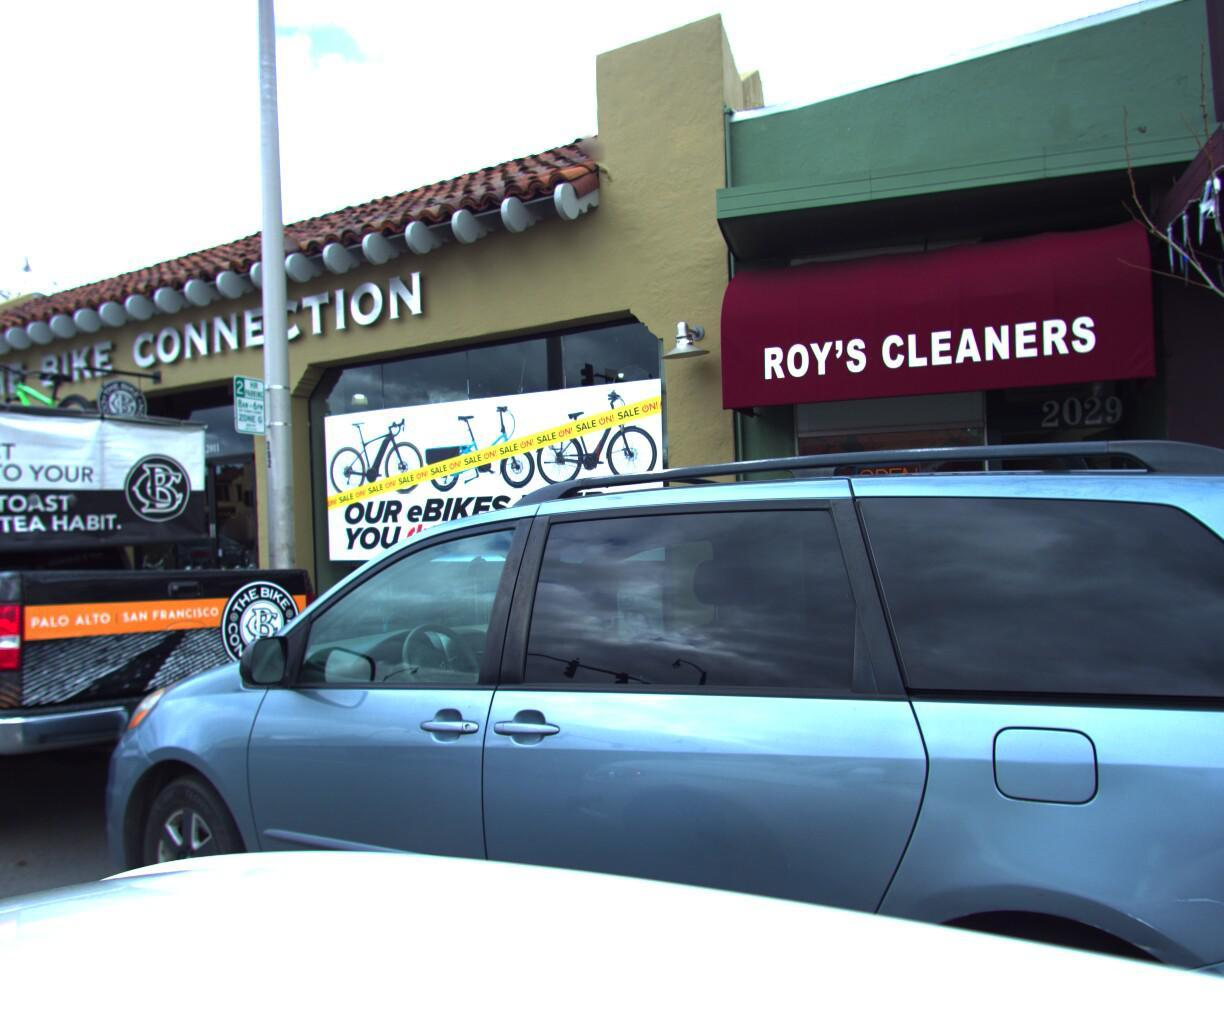car: (0, 308, 1224, 1024), (0, 204, 416, 922)
